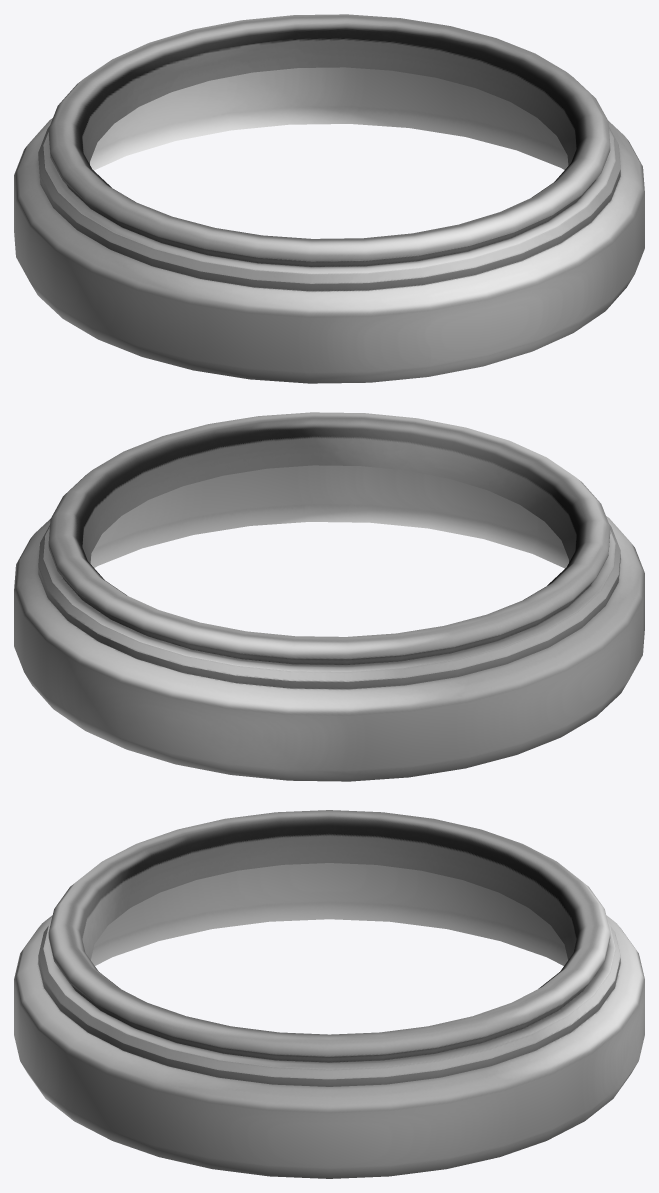
The model's file is KushiExpress_StartButtonA.fbx.
The picture shows the model from 3 angles, top to bottom: view 1: azimuth 30°, elevation 25°; view 2: azimuth 150°, elevation 25°; view 3: azimuth 270°, elevation 25°; orthographic projection.
Parts seen in each view (by area): view 1: KushiExpress_StartButtonA; view 2: KushiExpress_StartButtonA; view 3: KushiExpress_StartButtonA.
Part boxes in pixels (x1,y1,x2,y2): KushiExpress_StartButtonA: (14, 14, 644, 383); KushiExpress_StartButtonA: (14, 412, 644, 781); KushiExpress_StartButtonA: (14, 810, 644, 1178).
Bounding box in the file's own units: 10.74 × 2.32 × 10.74.
